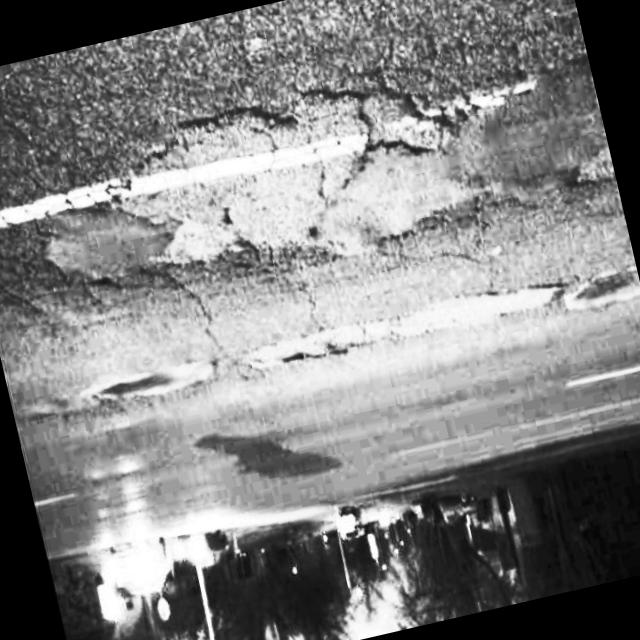Pothole: (86, 340, 220, 416), (272, 313, 365, 378), (565, 257, 640, 328)
